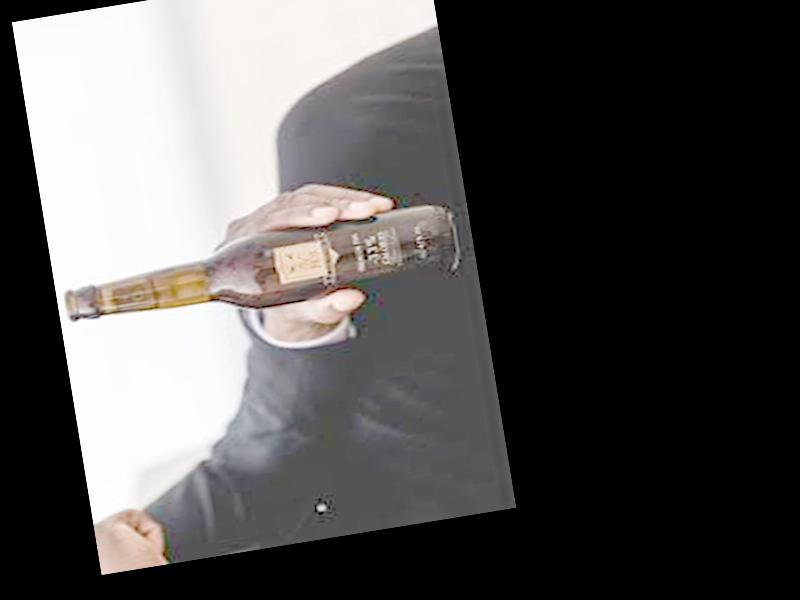Beer: (59, 200, 463, 337)
